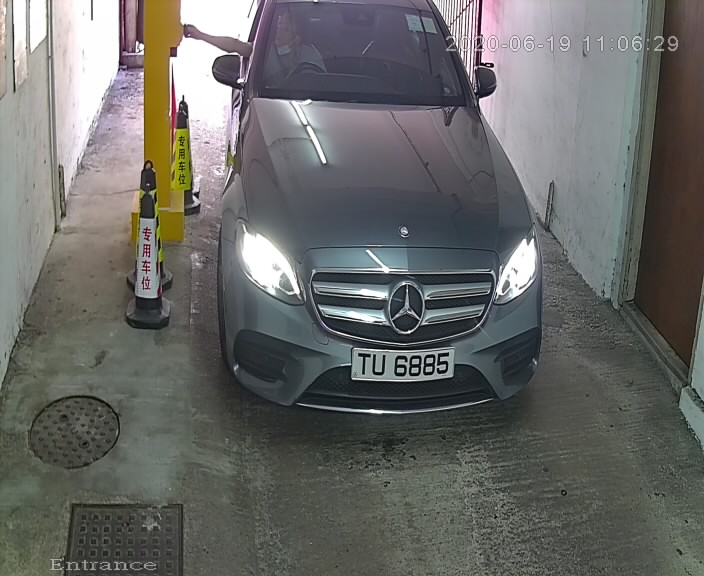privatecar: (222, 3, 560, 429)
